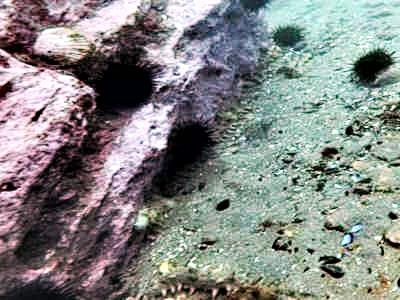urchin: (158, 118, 215, 193), (90, 57, 159, 109), (347, 45, 393, 83), (272, 24, 304, 51)
